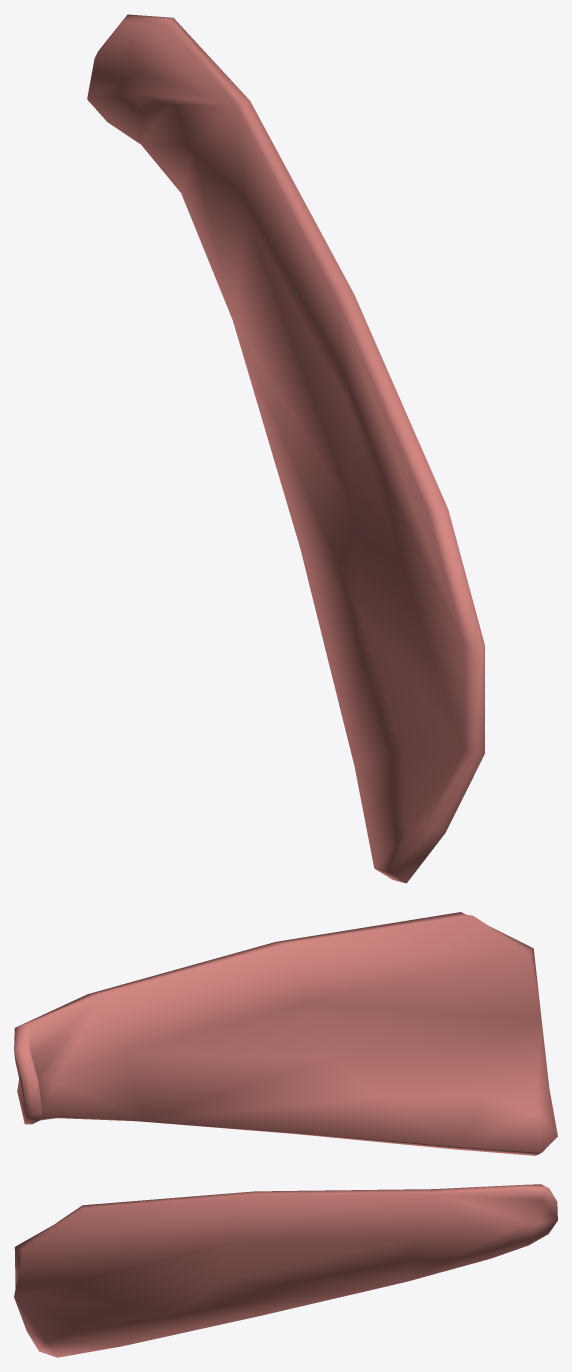
3 renders of one model, top to bottom at view 1: azimuth 30°, elevation 25°; view 2: azimuth 150°, elevation 25°; view 3: azimuth 270°, elevation 25°, orthographic. The views are drawn at different scales.
Visible parts, largest first — view 1: ZA_f9a2eed970d7f278; view 2: ZA_f9a2eed970d7f278; view 3: ZA_f9a2eed970d7f278.
Part boxes in pixels (box(x1,y1,x2,y2)): ZA_f9a2eed970d7f278: box(87, 14, 484, 883); ZA_f9a2eed970d7f278: box(14, 912, 557, 1155); ZA_f9a2eed970d7f278: box(14, 1184, 557, 1357).
Bounding box in the file's own units: 0.0139 × 0.0229 × 0.049.
